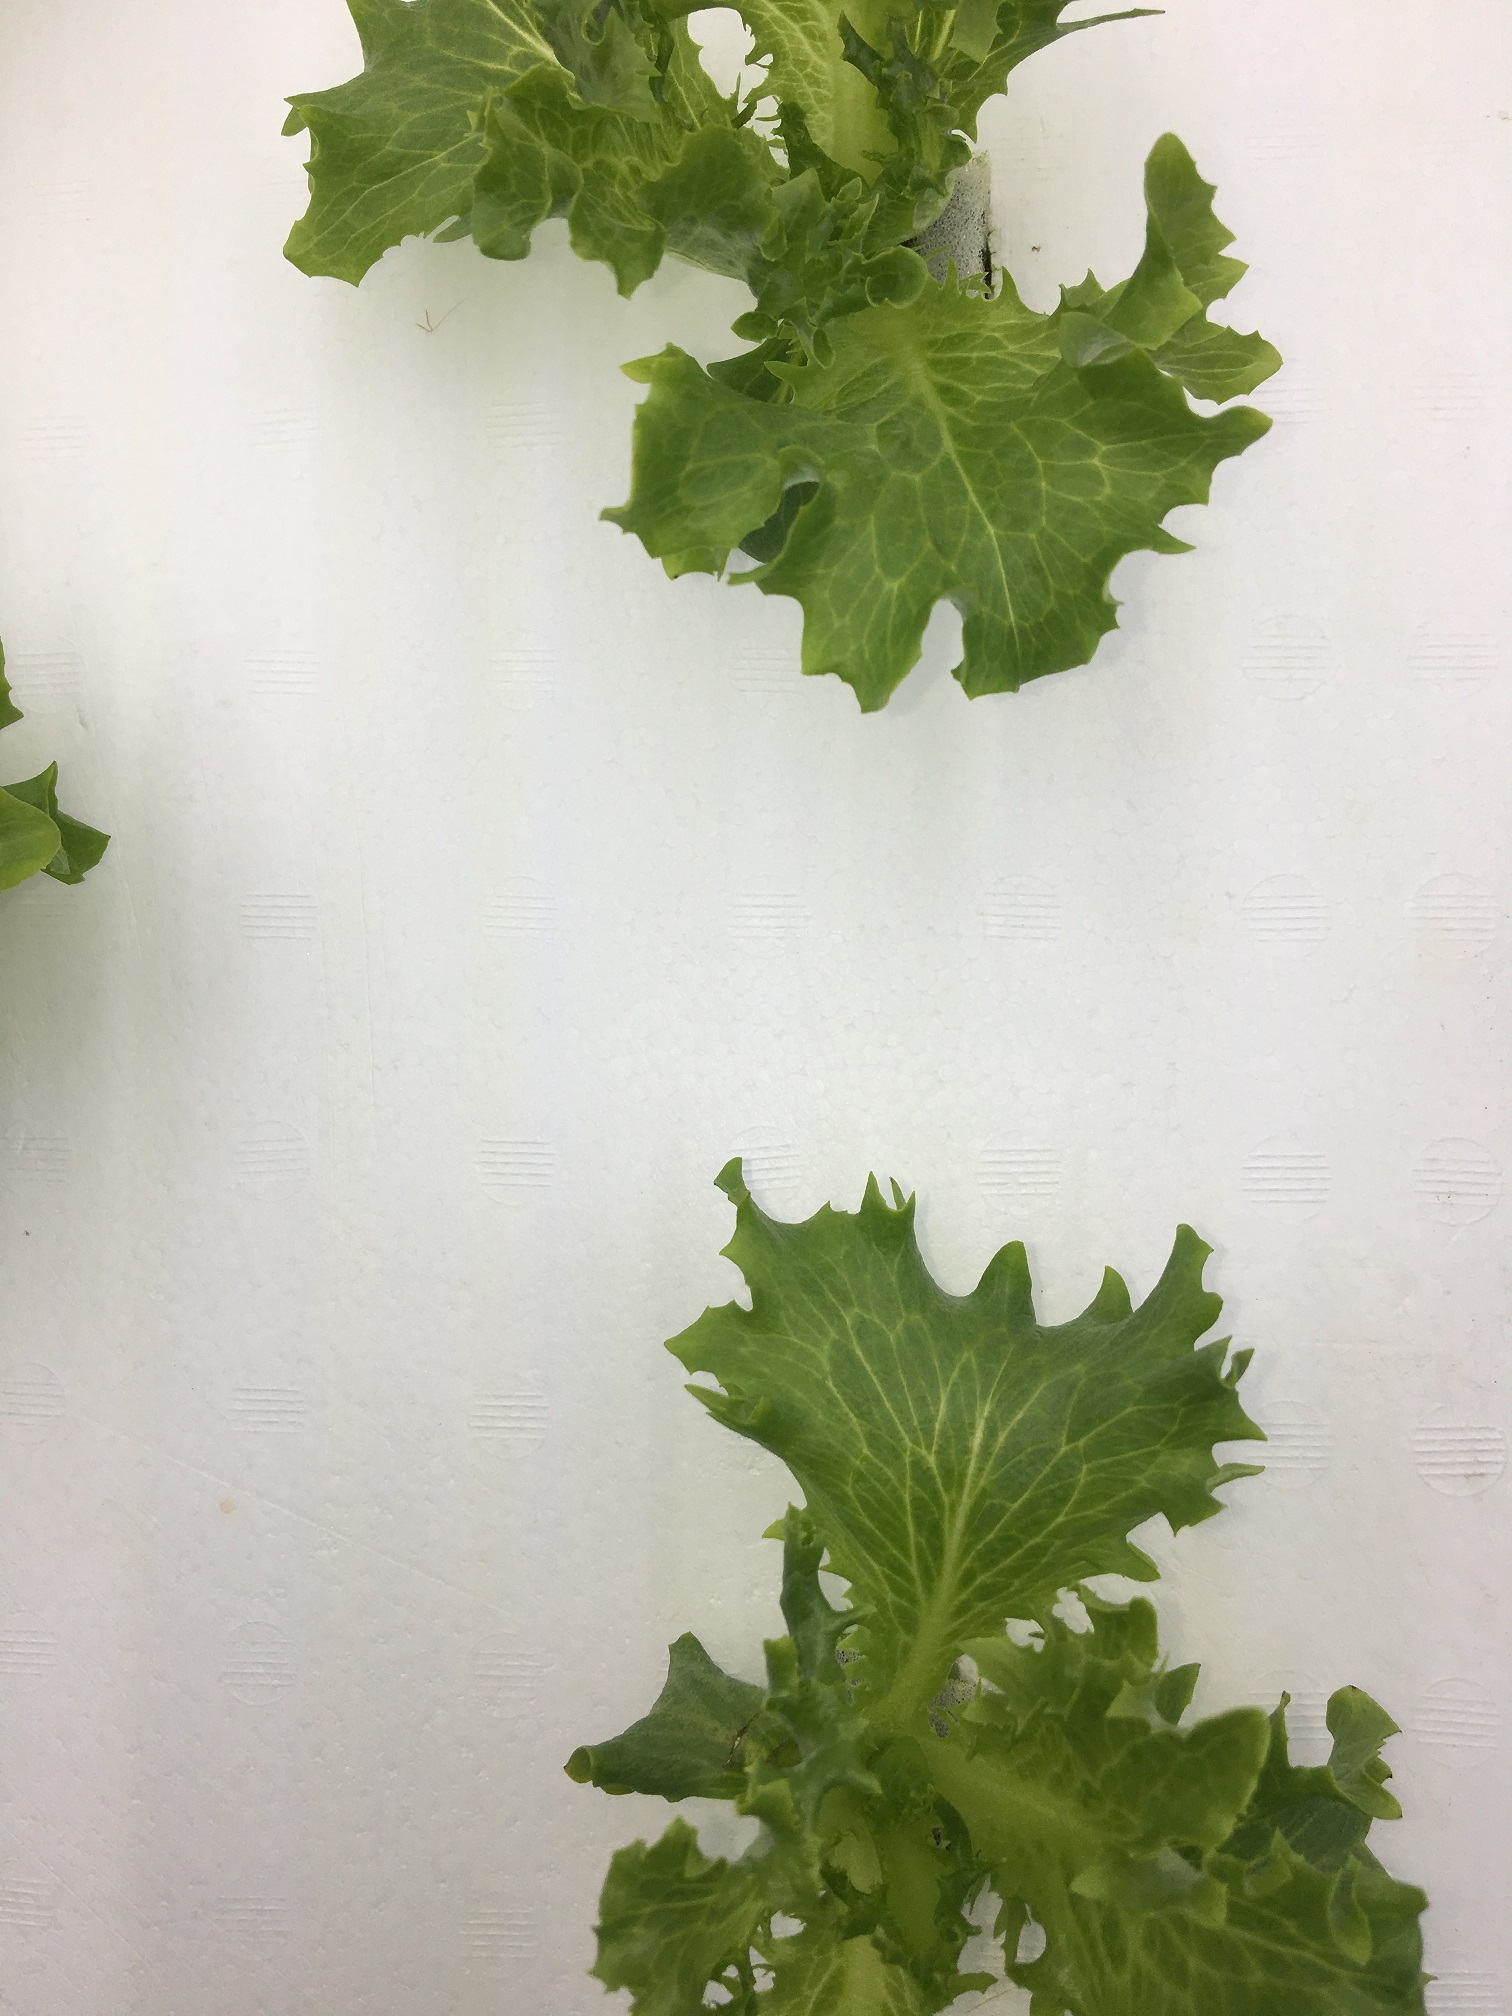tipburn: (1380, 1756, 1409, 1789), (1344, 1672, 1371, 1699), (1394, 1802, 1421, 1827), (665, 564, 689, 589)
